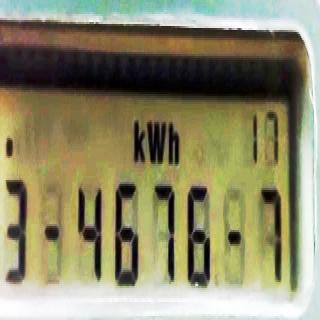-: (228, 216, 241, 258), (44, 214, 60, 248), (5, 130, 14, 160)
1: (252, 107, 260, 165)
3: (2, 171, 28, 296)
4: (78, 173, 104, 283)
6: (112, 168, 142, 296), (186, 177, 214, 297)
7: (152, 174, 178, 294), (258, 181, 284, 290), (265, 97, 280, 173)
